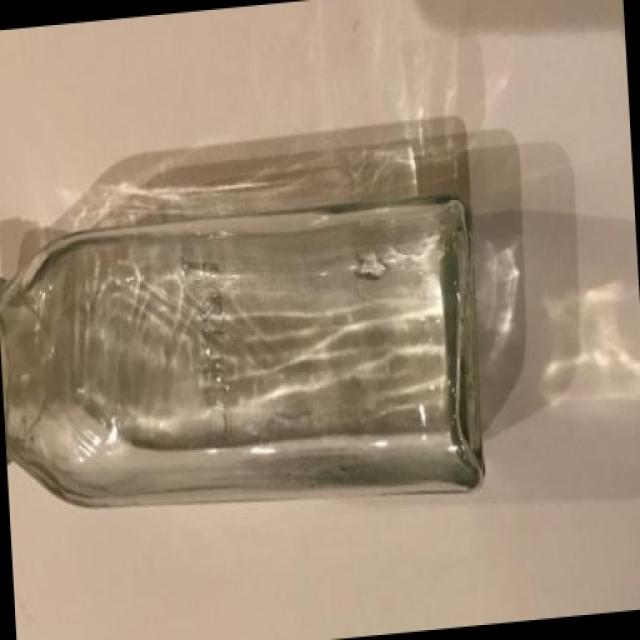vidrio: (9, 80, 517, 553)
